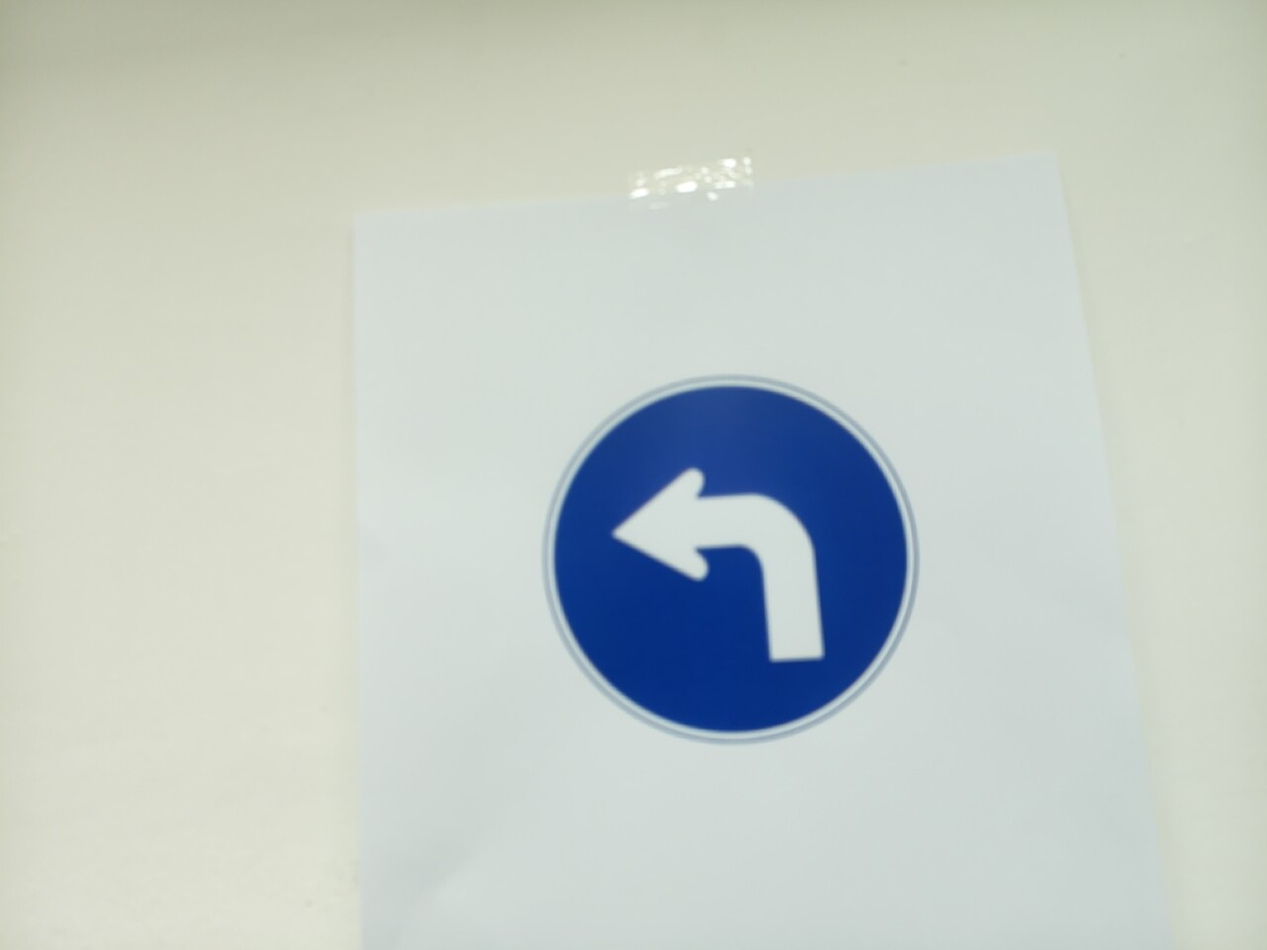left_turn: (543, 375, 919, 743)
